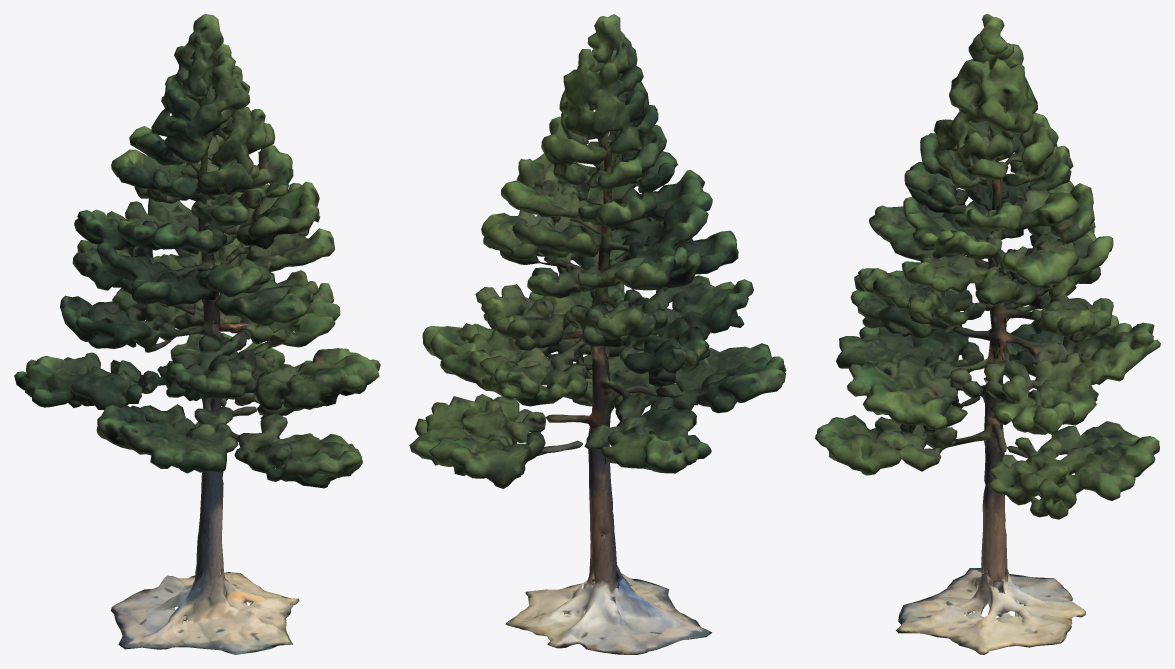
Rendered from AI_IrregularSpruceTree.fbx.
3 renders of one model, left to right at view 1: azimuth 30°, elevation 25°; view 2: azimuth 150°, elevation 25°; view 3: azimuth 270°, elevation 25°, orthographic.
Visible parts, largest first — view 1: Mesh_0; view 2: Mesh_0; view 3: Mesh_0.
Boxes of the visible parts, x1,y1,x2,y2 form: Mesh_0: (14,14,380,654); Mesh_0: (409,14,786,654); Mesh_0: (815,14,1160,654).
Size of the model in its own units: 104 by 200 by 105.
Materials: 1 (1 with a texture image).
